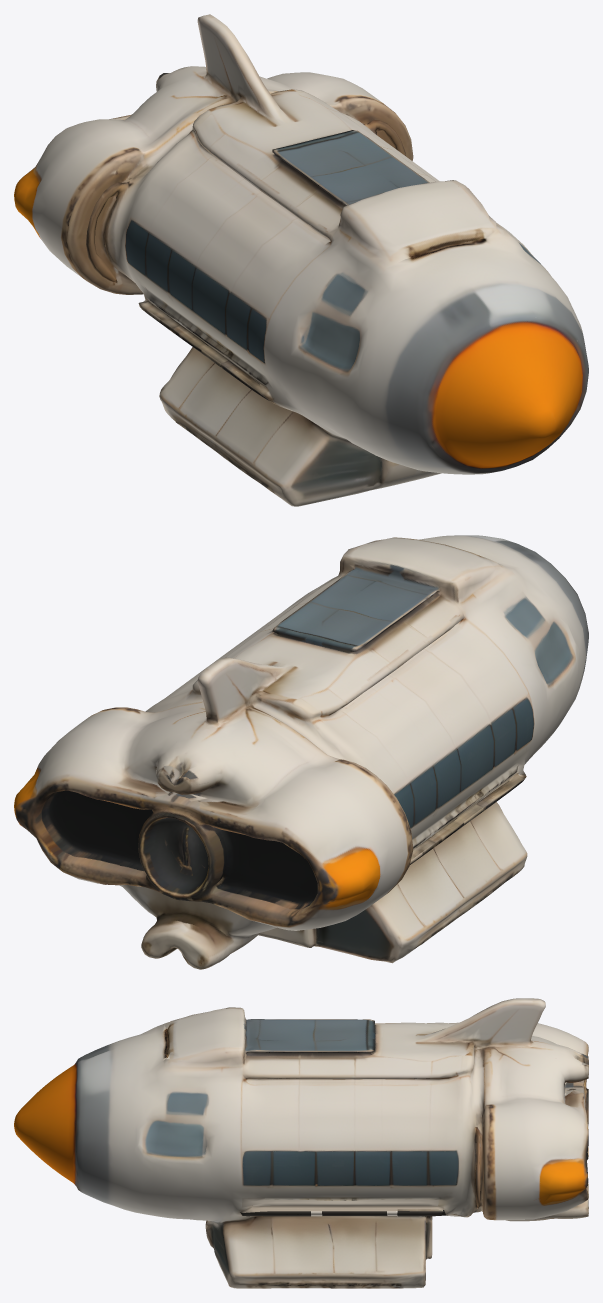
Rendered from rocket.glb.
3 views of the same model, one above another, from view 1: azimuth 30°, elevation 25°; view 2: azimuth 150°, elevation 25°; view 3: azimuth 270°, elevation 25° (orthographic). The views are drawn at different scales.
Visible parts, largest first — view 1: model; view 2: model; view 3: model.
Part boxes in pixels (<box>): model: <box>14,14,588,506</box>; model: <box>14,535,588,969</box>; model: <box>14,998,588,1288</box>.
Bounding box in the file's own units: 0.3134 × 0.2747 × 0.5784.
1 material, 1 textured.
